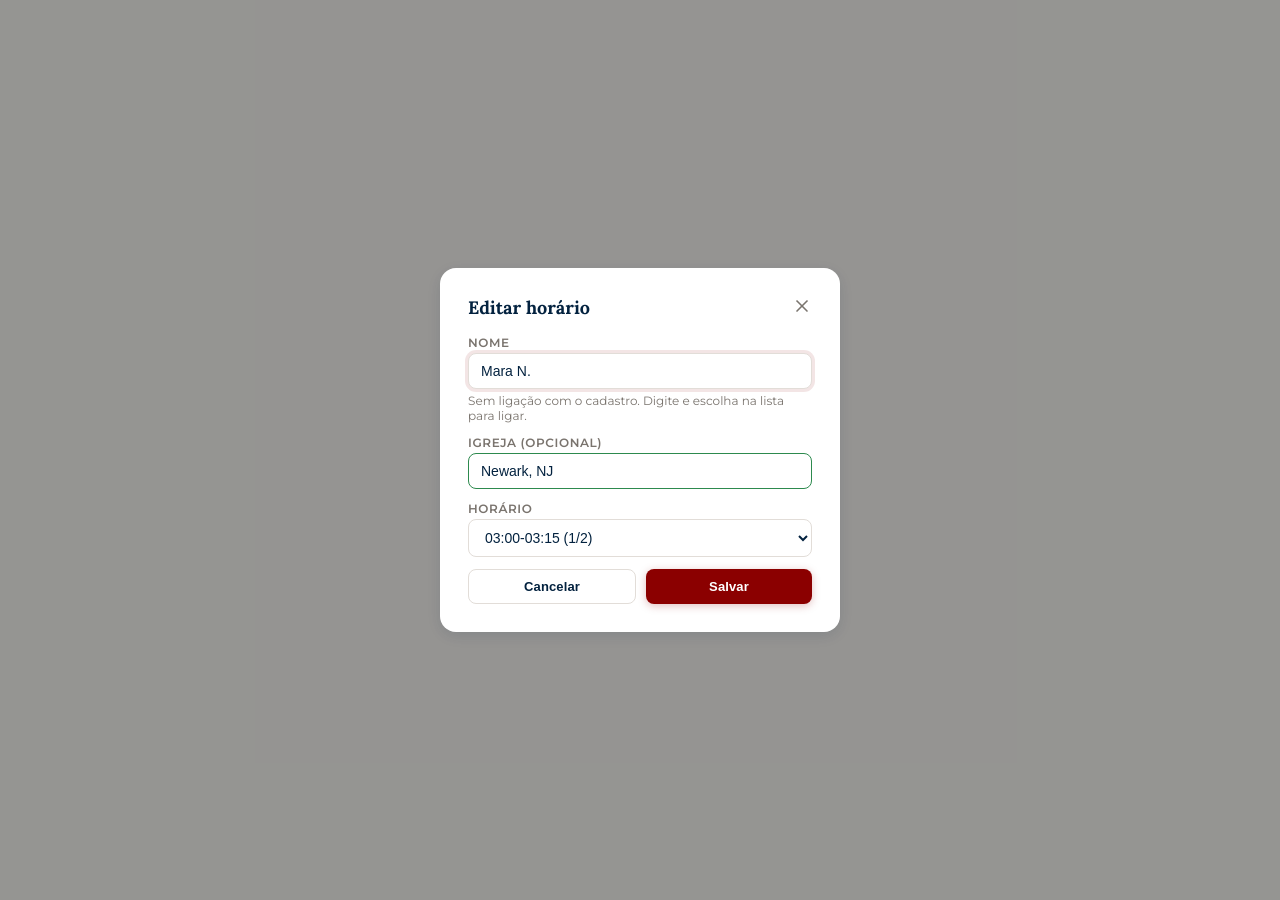
Test: admin: edit one person of a prayer list › explains a conflict reported by the database and a plain failure
Click the button "Salvar".
click(729, 586)  # box [646,569,812,604]
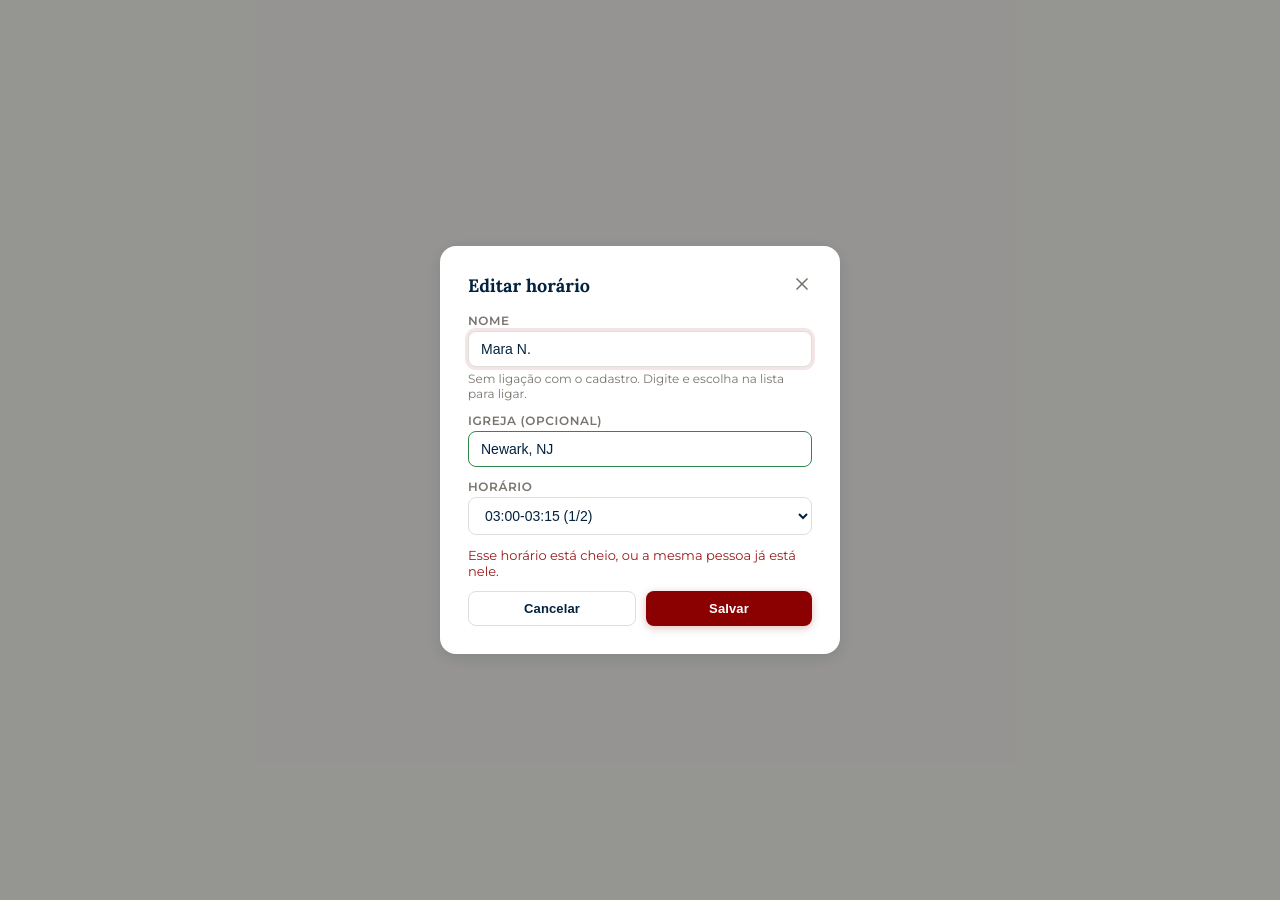
Expected: the message reads "Esse horário está cheio, ou a mesma pessoa já está nele.", [468,547,796,579]
Click the button "Salvar".
click(729, 608)  # box [646,591,812,626]
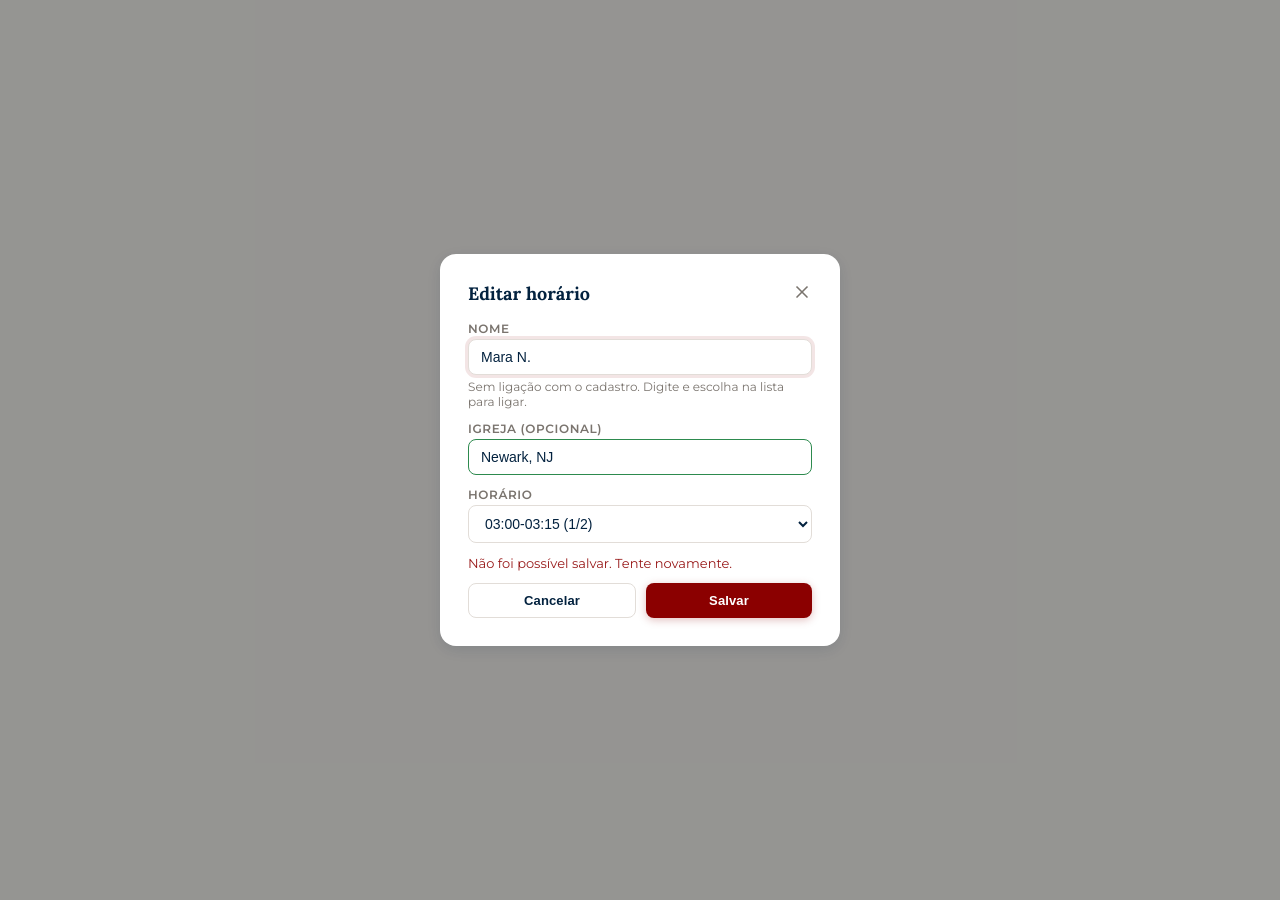
Expected: the message reads "Não foi possível salvar. Tente novamente.", [468,555,732,571]
